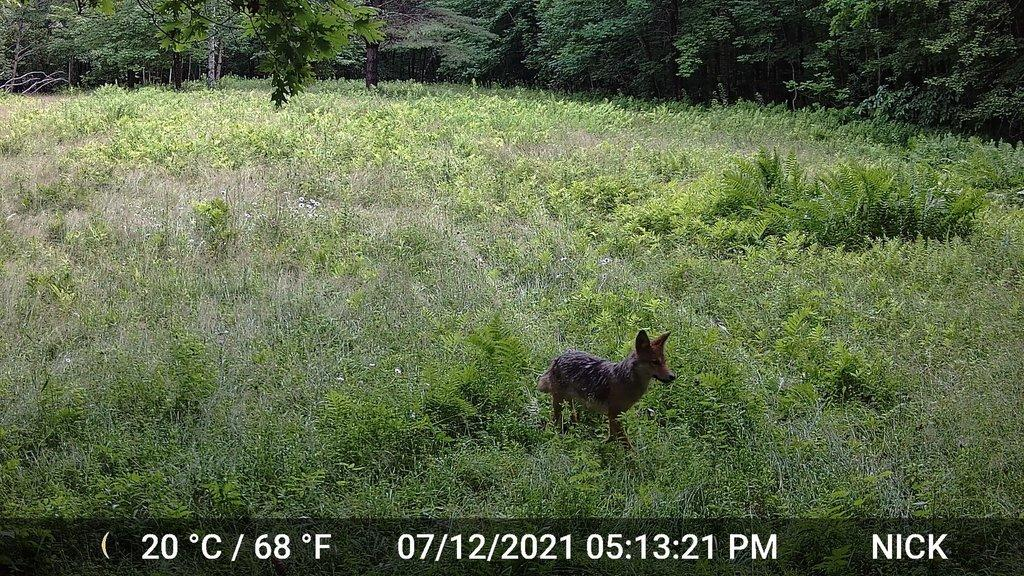Coyote: (537, 323, 681, 446)
